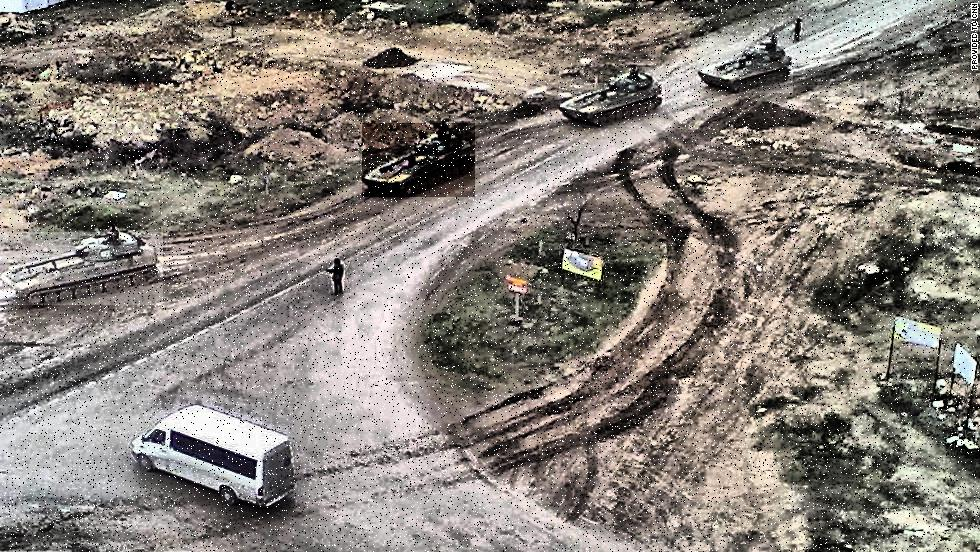military-vehicle: (0, 231, 163, 305), (362, 123, 475, 197), (560, 66, 665, 127), (697, 36, 793, 93)
